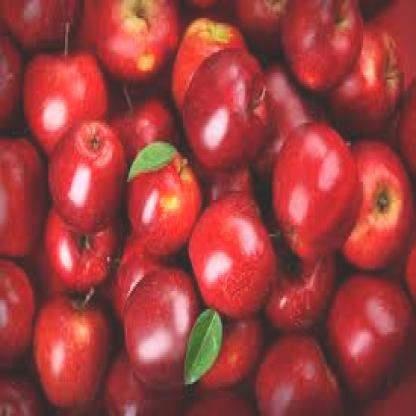apple: (189, 34, 275, 168), (184, 191, 280, 307), (271, 130, 358, 254), (342, 136, 407, 270), (122, 143, 198, 255), (324, 278, 404, 382), (47, 122, 118, 234), (168, 23, 244, 127), (27, 48, 106, 148), (119, 270, 196, 372), (32, 289, 103, 393), (41, 202, 113, 286), (254, 334, 331, 406)
